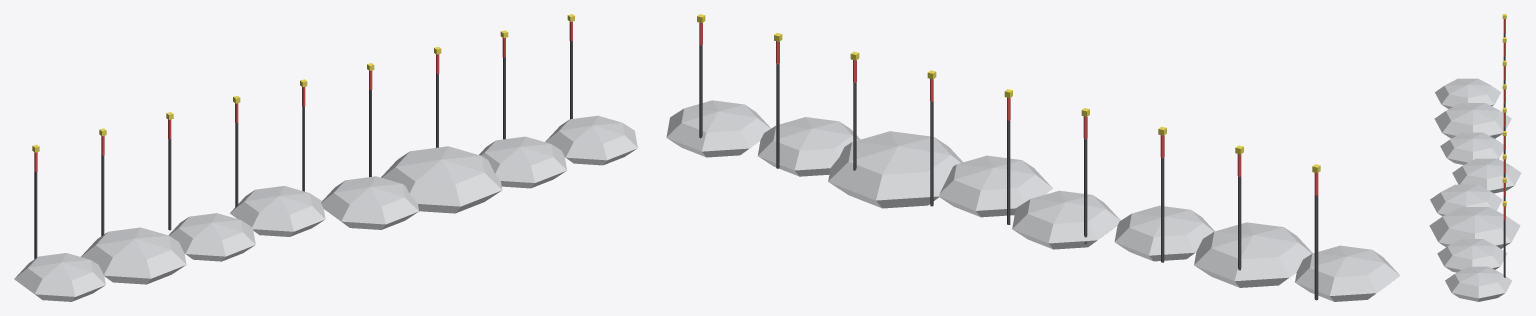
File: happogahara_snow_poles.glb
3 views of the same model, side by side, from view 1: azimuth 30°, elevation 25°; view 2: azimuth 150°, elevation 25°; view 3: azimuth 270°, elevation 25° (orthographic). The views are drawn at different scales.
Visible parts, largest first — view 1: happogahara_snow_poles; view 2: happogahara_snow_poles; view 3: happogahara_snow_poles.
Boxes of the visible parts, <box> form: happogahara_snow_poles: <box>14,14,637,301</box>; happogahara_snow_poles: <box>666,14,1400,301</box>; happogahara_snow_poles: <box>1429,14,1521,301</box>.
Size of the model in its own units: 18.46 by 3.81 by 3.34.
